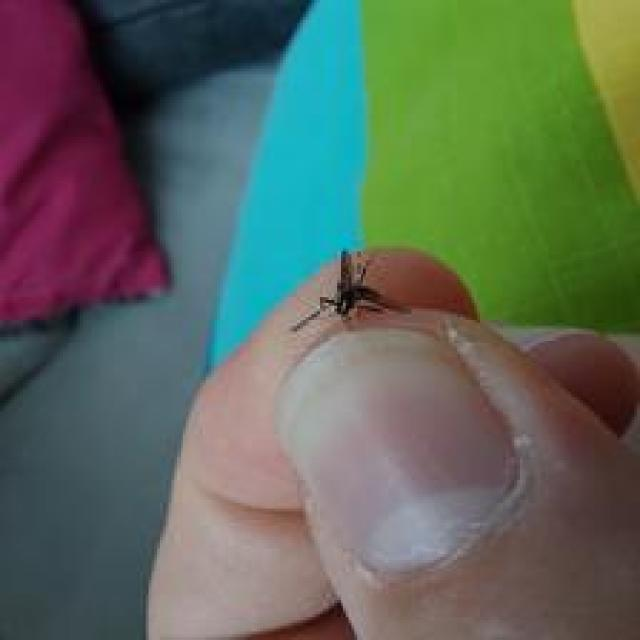Aedes albopictus: (288, 247, 412, 333)
